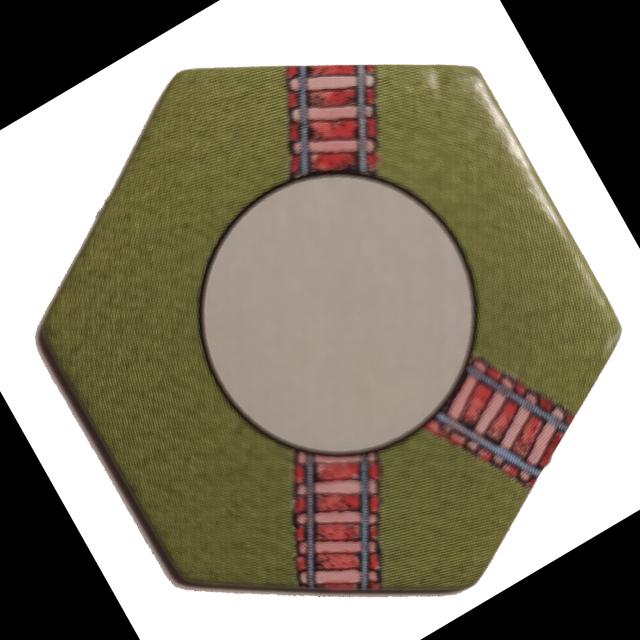14_5: (35, 62, 624, 594)
